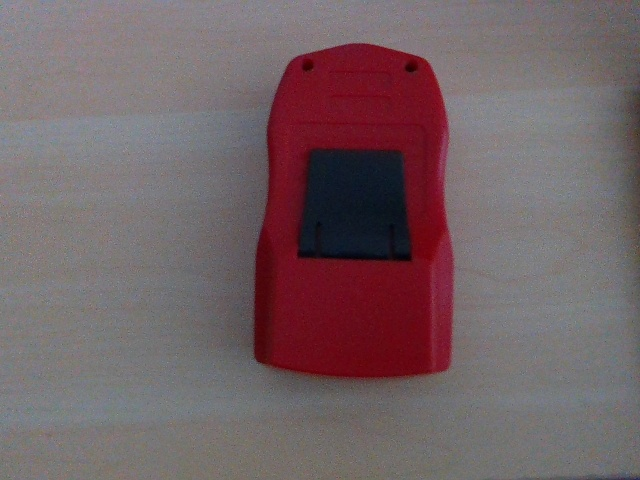multimeter: (253, 43, 456, 379)
screw hole: (405, 58, 419, 74), (304, 59, 314, 71)
